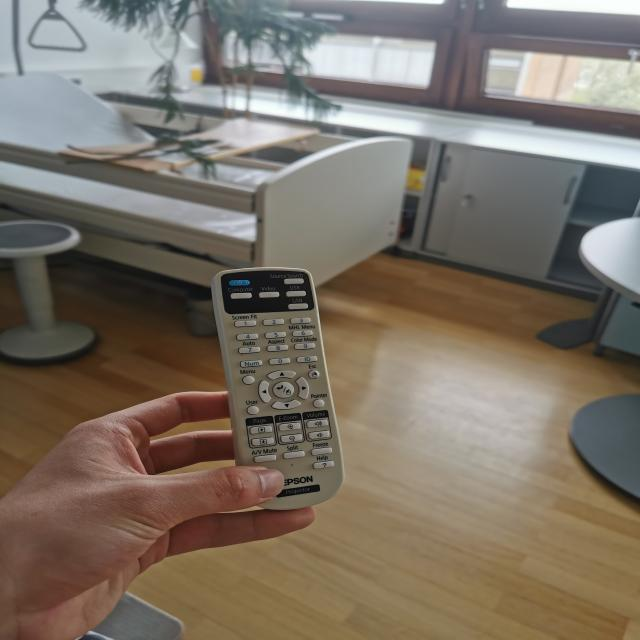remote: (208, 261, 348, 505)
